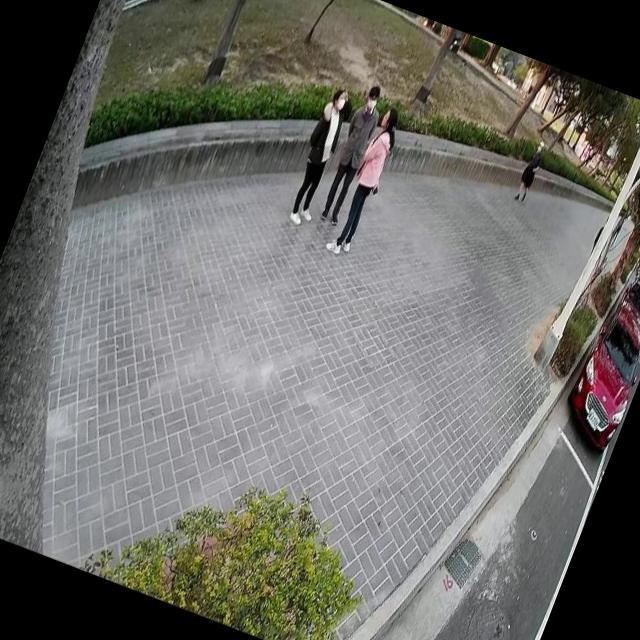person: (322, 97, 412, 262), (275, 78, 363, 231), (312, 76, 392, 228), (508, 134, 552, 207)
